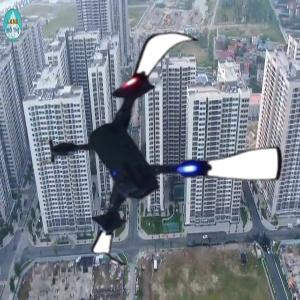drone: (35, 19, 283, 267)
